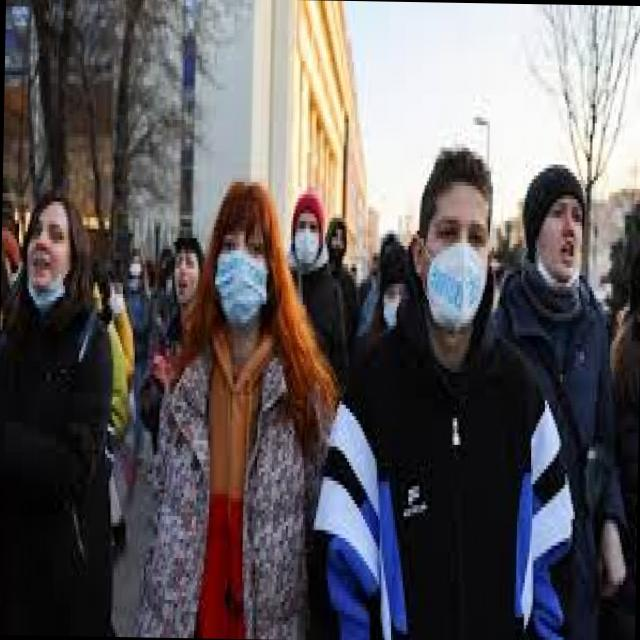Jacket: (315, 305, 582, 640), (141, 339, 348, 640), (489, 269, 624, 640), (0, 289, 118, 636)
